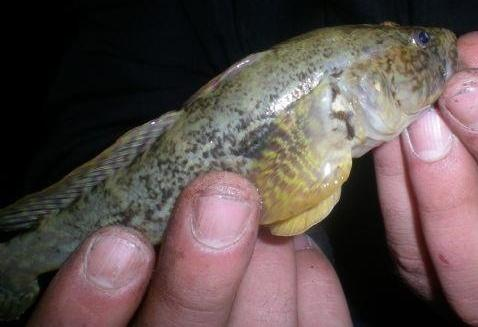Goby: (4, 23, 463, 327)
